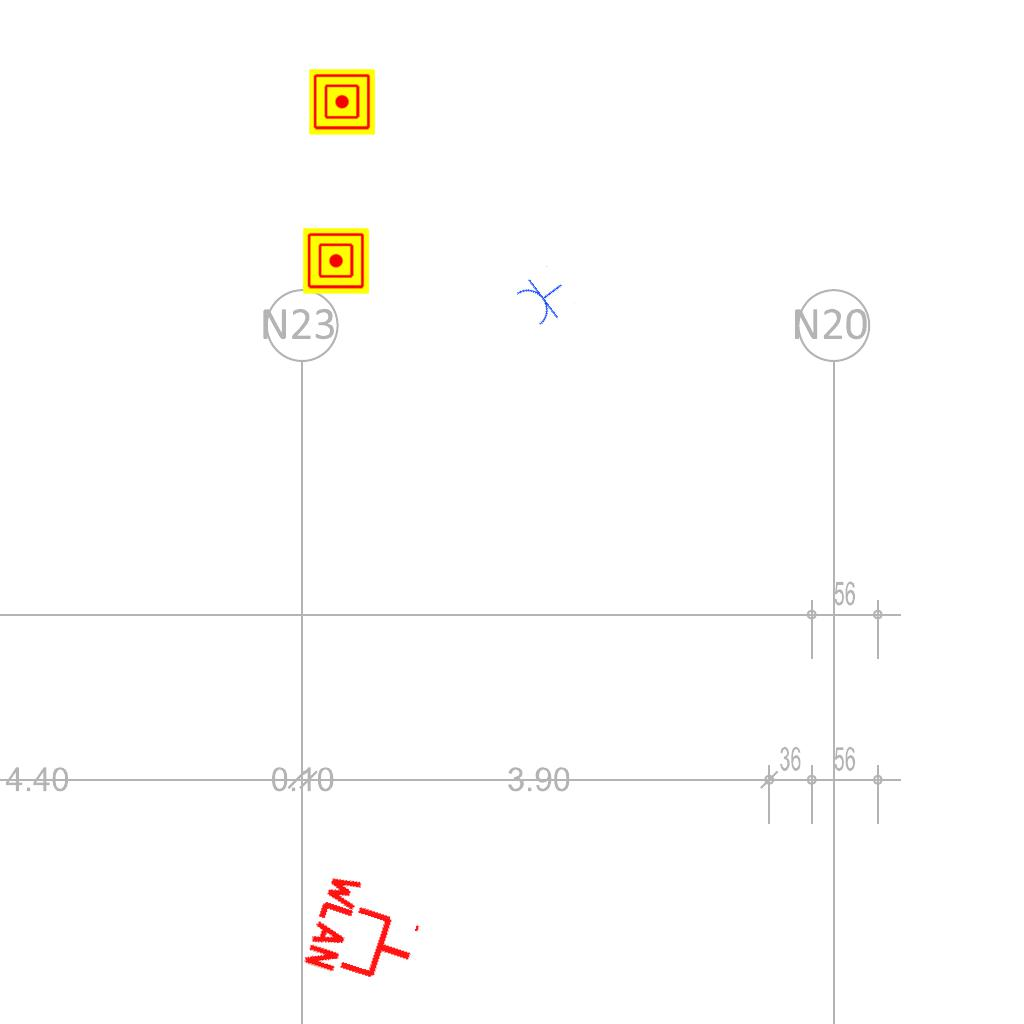NAM-Nichtautomatischer_Melder: (303, 228, 369, 294), (309, 69, 375, 135)
Schukosteckdose_einfach: (511, 264, 577, 331)
WLAN: (300, 867, 433, 999)
